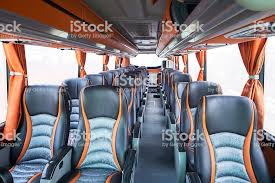seat: (75, 86, 132, 183)
